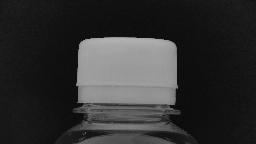Good Cap: (68, 32, 184, 120)
